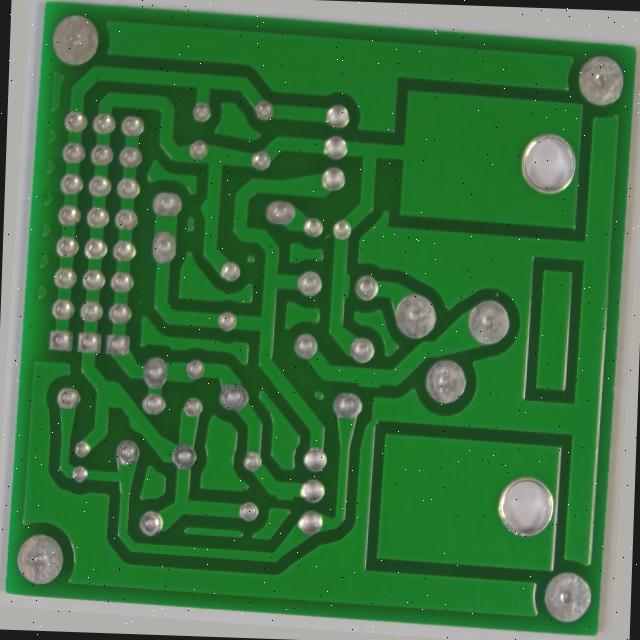spur: (331, 268, 356, 300), (354, 374, 390, 394), (191, 193, 211, 225), (121, 425, 145, 451), (274, 491, 303, 512)
